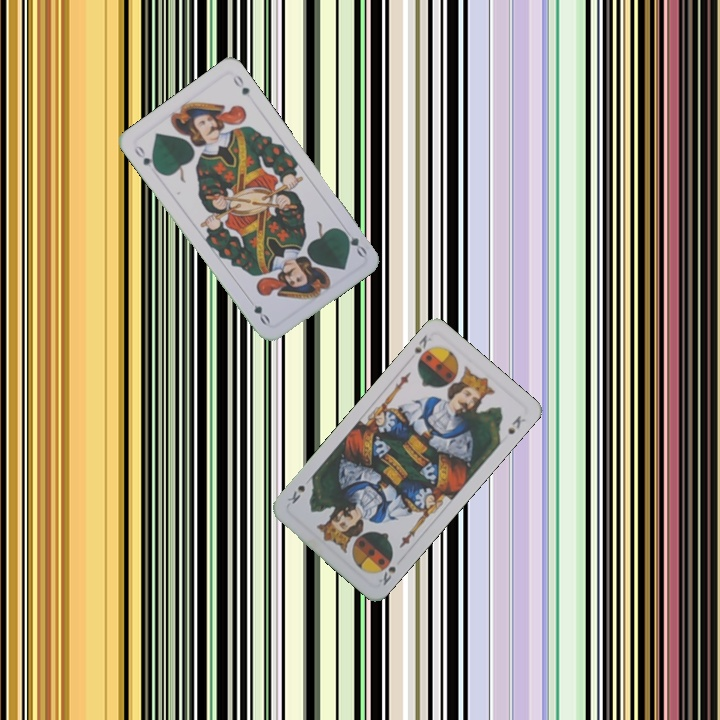GO: (337, 223, 369, 259), (130, 141, 161, 174)
SK: (410, 330, 435, 367), (374, 562, 398, 588)
